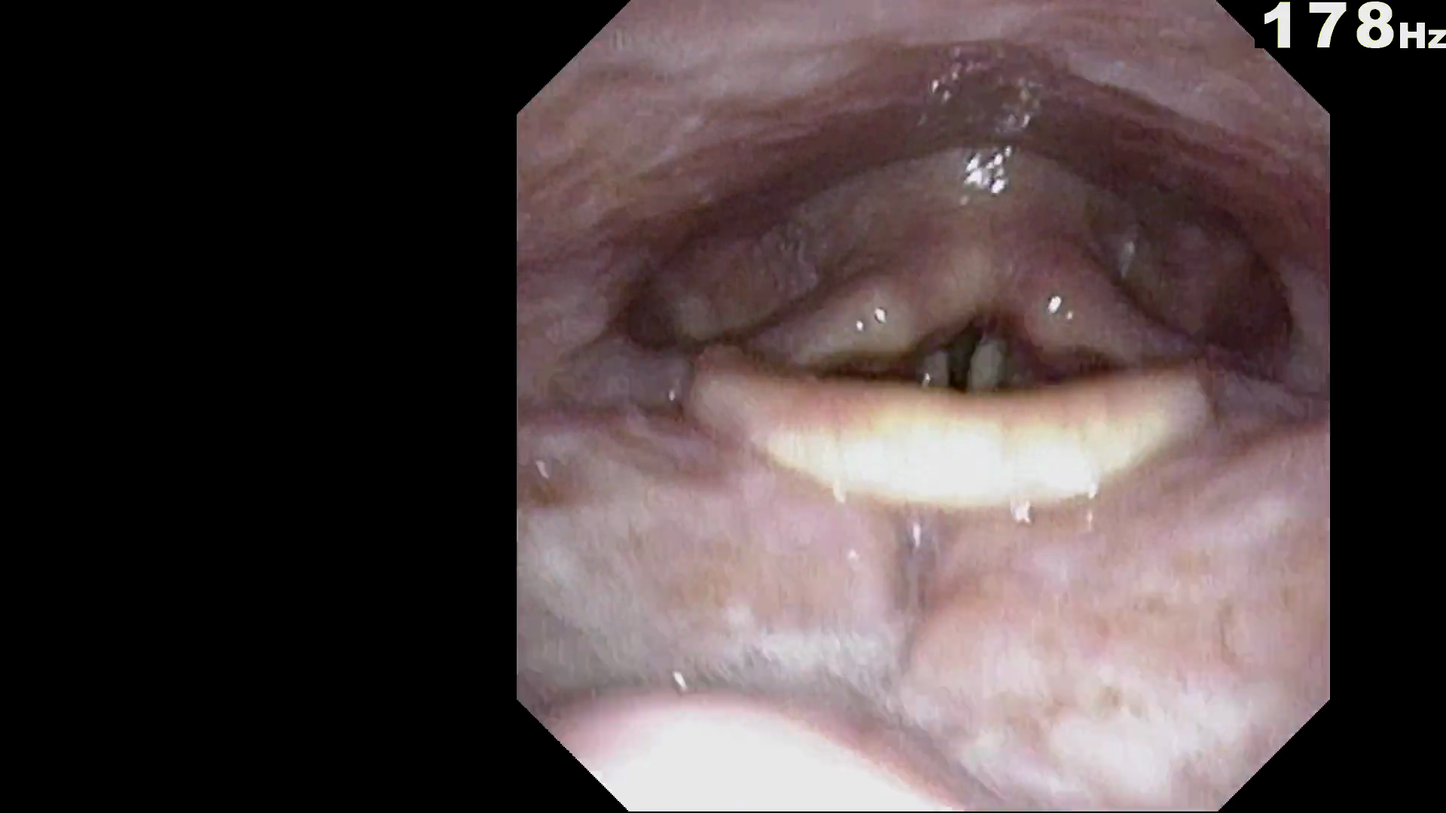epiglottis: (662, 310, 1260, 589)
trachea: (916, 309, 1006, 415)
